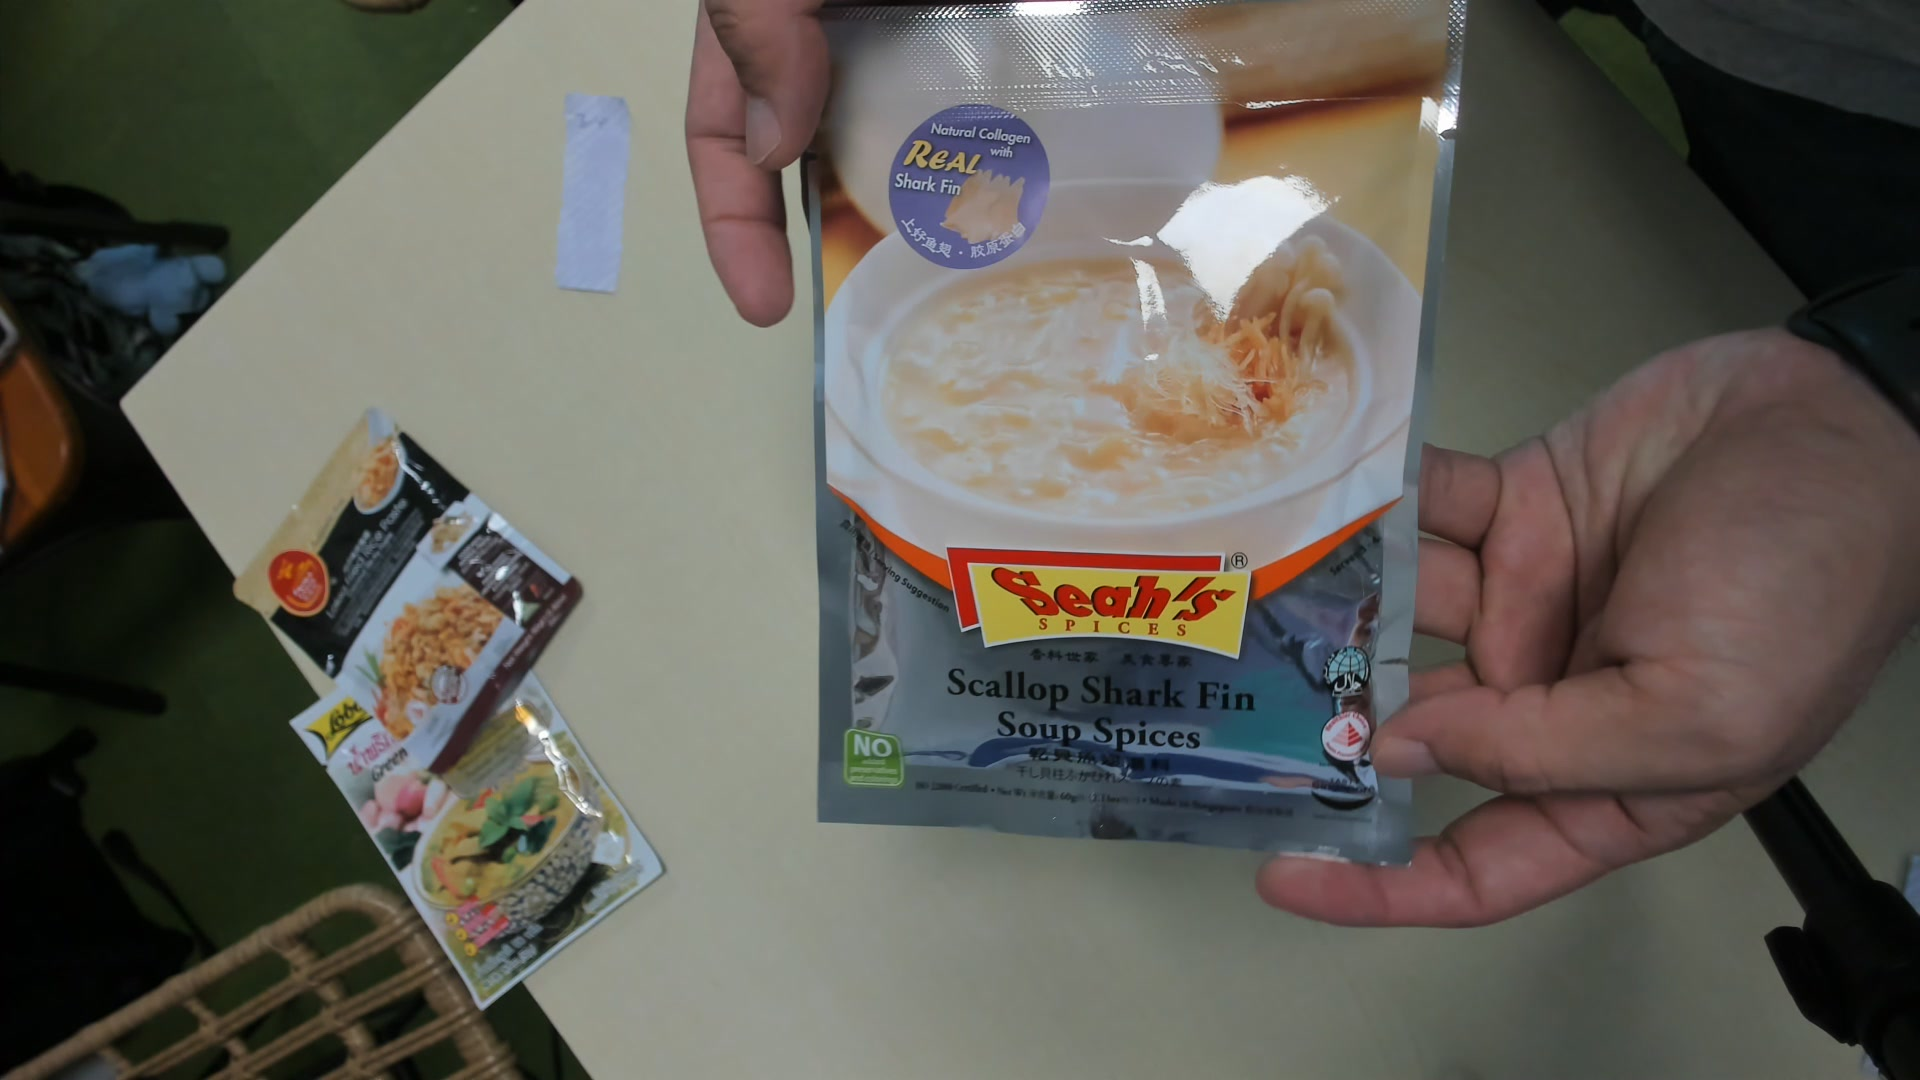OtherSauceDressing_0-99g_Halal_NonHealthy: (803, 7, 1422, 872)
